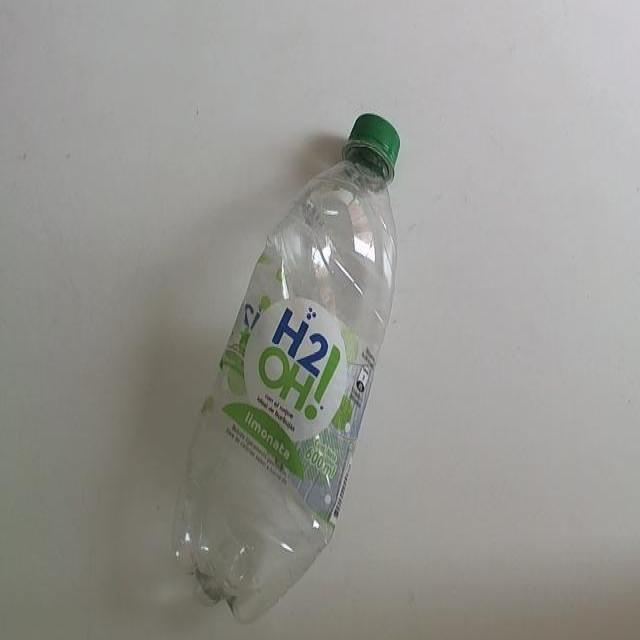defect: (168, 107, 405, 627)
